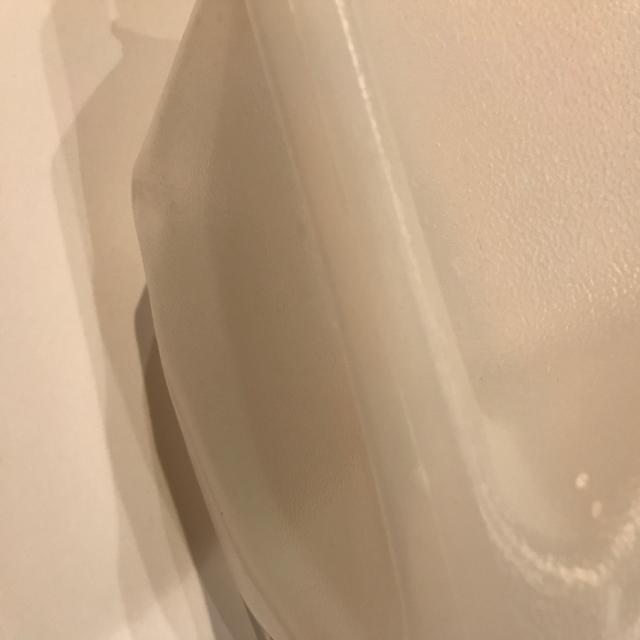plastic: (130, 1, 639, 638)
